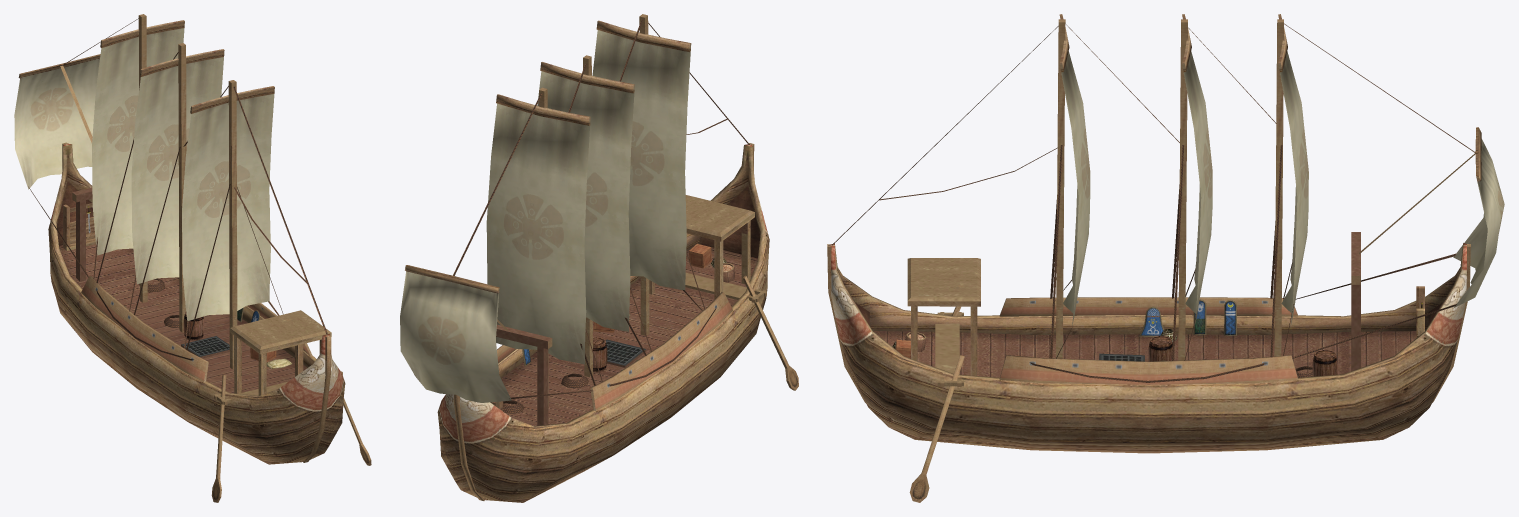
The model's file is maur_trireme.glb.
3 renders of one model, left to right at view 1: azimuth 30°, elevation 25°; view 2: azimuth 150°, elevation 25°; view 3: azimuth 270°, elevation 25°, orthographic. The views are drawn at different scales.
Parts seen in each view (by area): view 1: maur_trireme_part0, maur_trireme_part14; view 2: maur_trireme_part0, maur_trireme_part14; view 3: maur_trireme_part0.
Part boxes in pixels (x1,y1,x2,y2): maur_trireme_part0: (14,14,371,502); maur_trireme_part14: (183,311,203,340); maur_trireme_part0: (400,14,798,502); maur_trireme_part14: (593,337,607,372); maur_trireme_part0: (827,14,1504,502).
Size of the model in its own units: 2.25 by 4.98 by 7.
10 materials, 10 textured.
